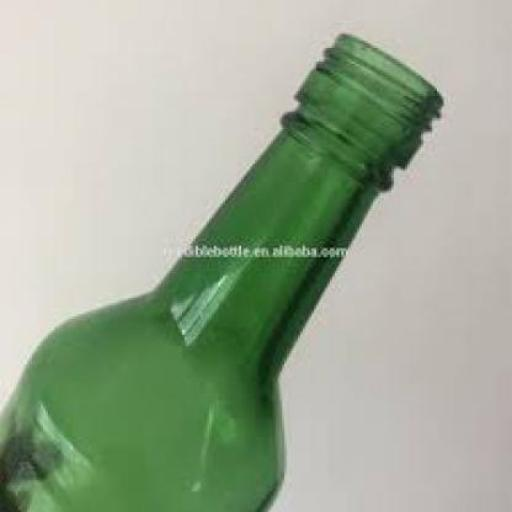glass: (0, 32, 442, 510)
